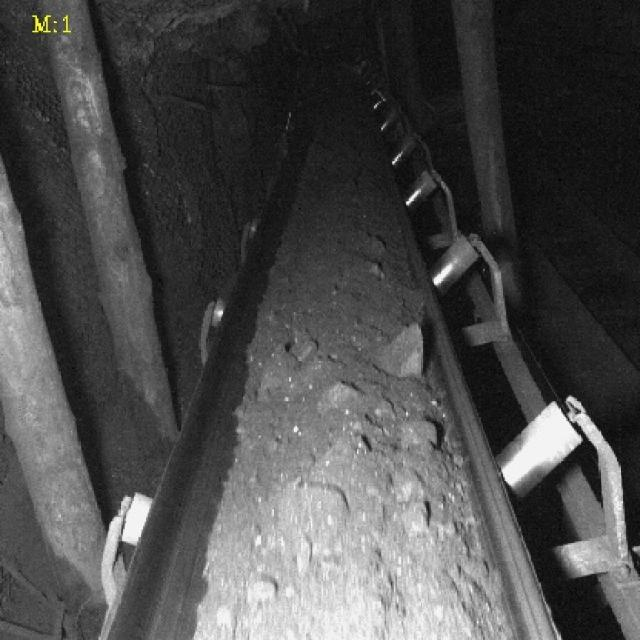large_sized_coal: (283, 480, 349, 535), (379, 321, 423, 374), (314, 376, 358, 424), (398, 417, 438, 452)
